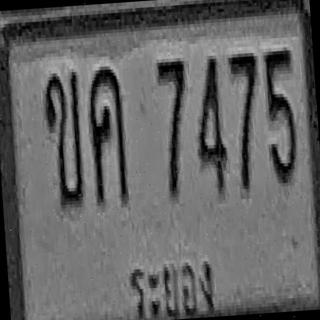A02: (42, 68, 86, 209)
A04: (86, 64, 129, 204)
N04: (192, 54, 229, 197)
N05: (262, 47, 299, 184)
N07: (228, 49, 264, 193), (156, 58, 192, 198)
P53: (120, 237, 218, 320)
